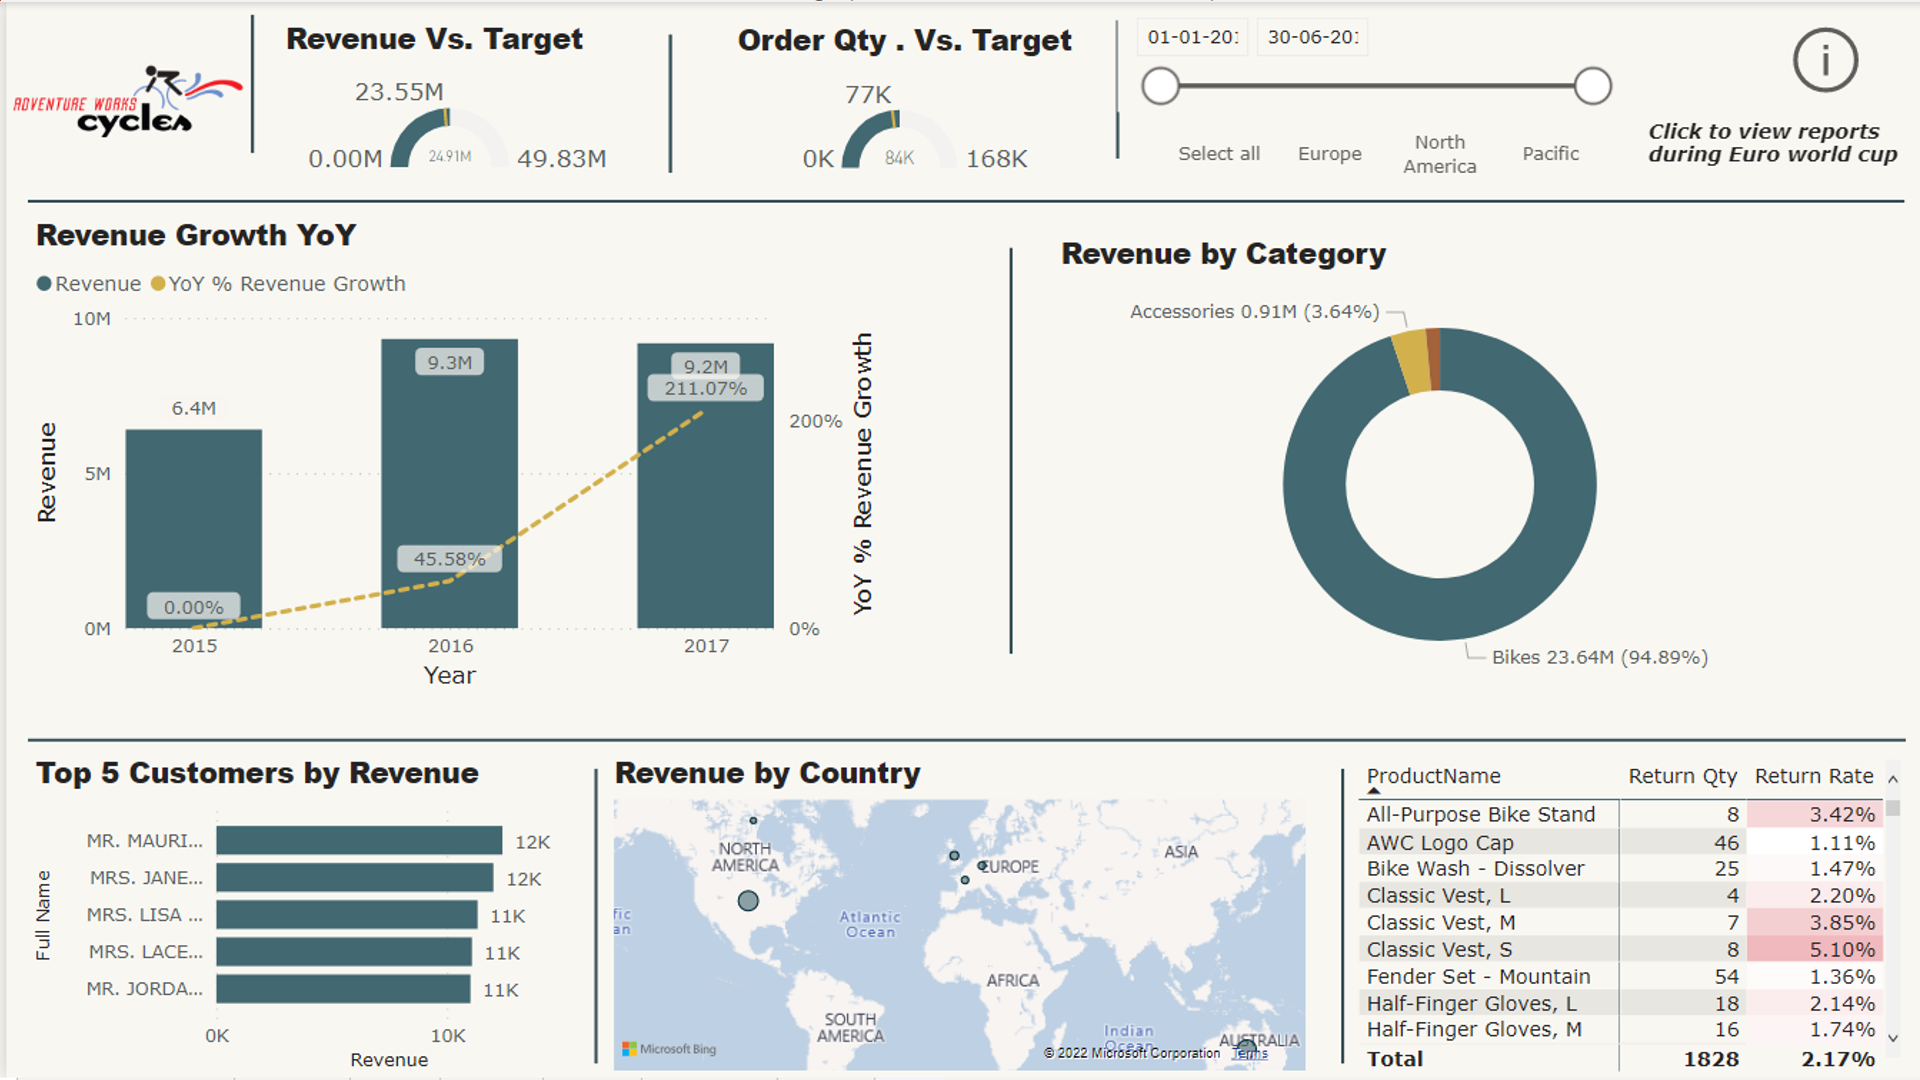

The page's visual inventory and layout, read from the dashboard file:
{"tool":"powerbi","page":{"name":"NLQ","canvas":[1280,720],"ordinal":2},"visuals":[{"type":"clusteredBarChart","title":"Order Qty. by Subcategory","fields":{"Category":["d-ProductSubcategories.SubcategoryName"],"Y":["f-Sales.OrderQuantity"]},"box":[0,55.7,280.7,611.1],"z":0},{"type":"shape","box":[304.9,56.9,12.1,612.3],"z":1000},{"type":"clusteredBarChart","title":"Top 5 Customers","fields":{"Category":["d-customers.Full Name"],"Y":["f-Sales.Revenue"]},"box":[325.5,108.9,481.6,251.7],"z":2000},{"type":"shape","box":[317,359.4,490.1,12.1],"z":3000},{"type":"clusteredBarChart","title":"Bottom 5 Customers","fields":{"Category":["d-customers.Full Name"],"Y":["f-Sales.Revenue"]},"box":[317,376.3,481.6,292.8],"z":4000},{"type":"shape","box":[830.1,56.9,12.1,612.3],"z":5000},{"type":"textbox","box":[986,57,150,612],"z":6000},{"type":"textbox","box":[0,0,1280.3,46],"z":7000},{"type":"map","title":"Revenue by Country","fields":{"Category":["d-Territories.Country"]},"box":[872.5,62.9,365.4,592.9],"z":8000},{"type":"slicer","fields":{"Values":["d-Territories.Continent"]},"box":[311,56.9,487.7,47.2],"z":9000}]}

Visuals, with their boxes in screenshot pixels (x1, y1, x2, y2), scaled from the page's 1280x720 canvas onto the 1920x1080 screenshot:
"Order Qty. by Subcategory" clusteredBarChart: bbox=(0, 84, 421, 1000)
shape: bbox=(457, 85, 476, 1004)
"Top 5 Customers" clusteredBarChart: bbox=(488, 163, 1211, 541)
shape: bbox=(476, 539, 1211, 557)
"Bottom 5 Customers" clusteredBarChart: bbox=(476, 564, 1198, 1004)
shape: bbox=(1245, 85, 1263, 1004)
textbox: bbox=(1479, 86, 1704, 1004)
textbox: bbox=(0, 0, 1919, 69)
"Revenue by Country" map: bbox=(1309, 94, 1857, 984)
slicer - d-Territories.Continent: bbox=(466, 85, 1198, 156)
